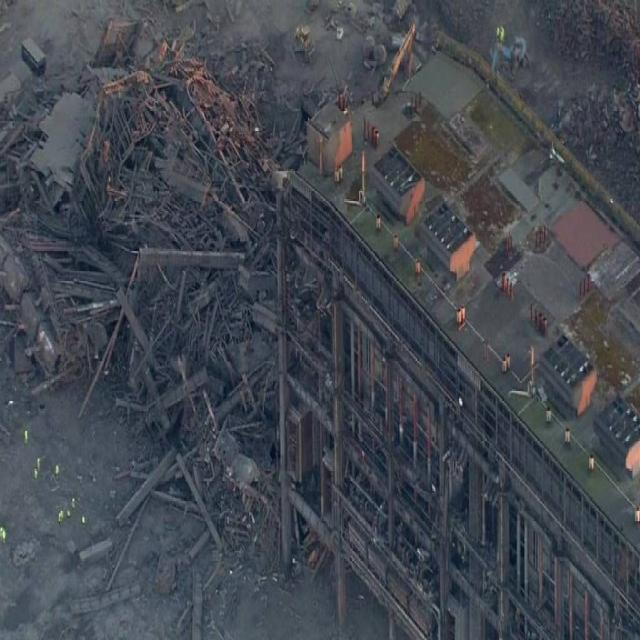collapsed_building: (45, 54, 318, 509)
